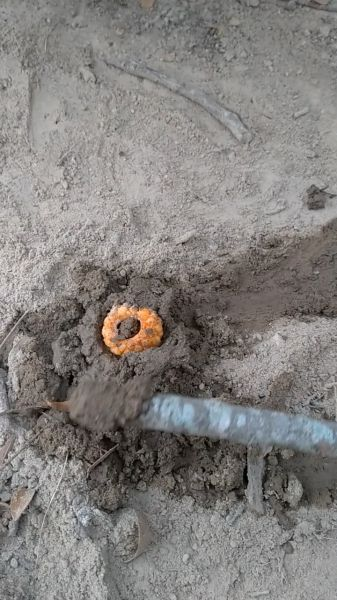eggs: (100, 297, 171, 361)
